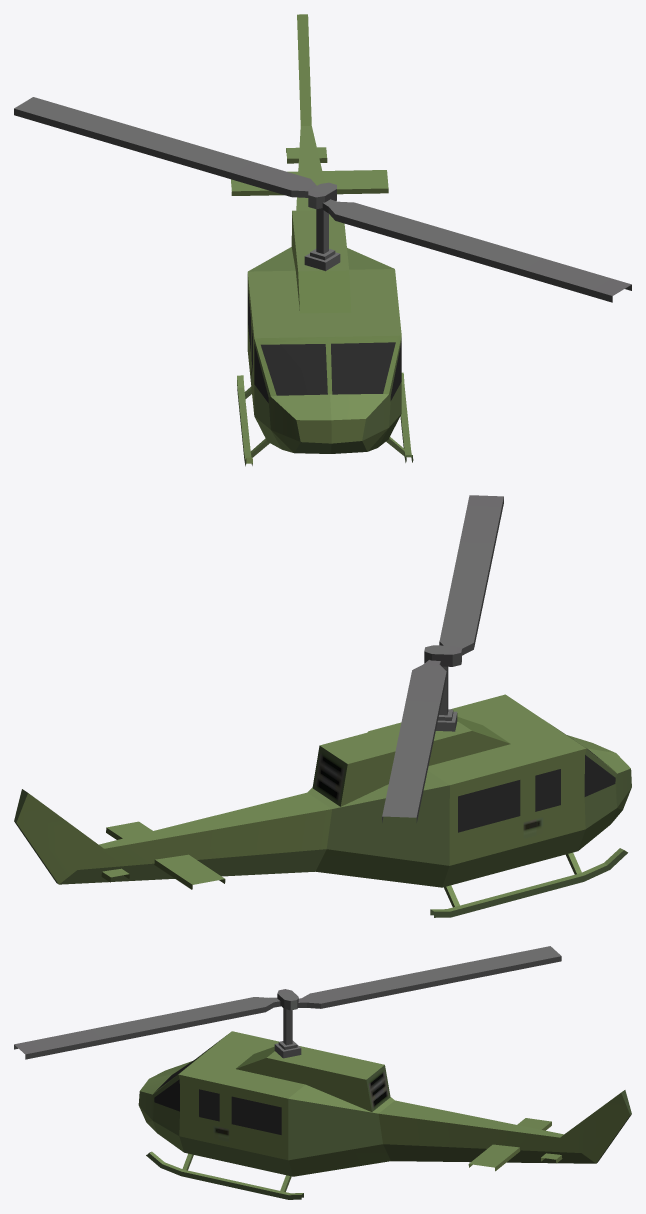
Rendered from Heli.fbx.
3 renders of one model, top to bottom at view 1: azimuth 30°, elevation 25°; view 2: azimuth 150°, elevation 25°; view 3: azimuth 270°, elevation 25°, orthographic. The views are drawn at different scales.
Visible parts, largest first — view 1: Heli; view 2: Heli; view 3: Heli.
Part boxes in pixels (x1,y1,x2,y2): Heli: [14, 14, 631, 466]; Heli: [14, 495, 631, 917]; Heli: [14, 946, 631, 1199].
Bounding box in the file's own units: 2.13 × 1.32 × 4.25.
